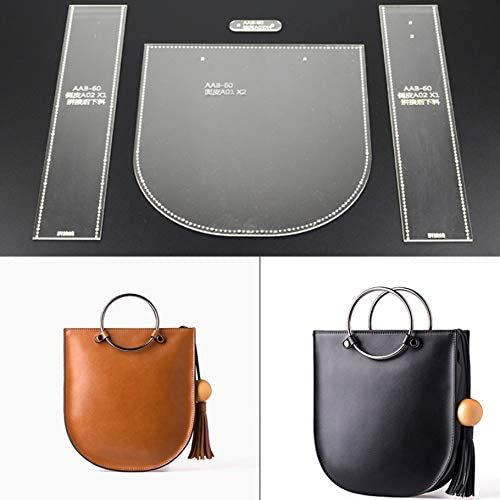cuero: (63, 328, 476, 498)
